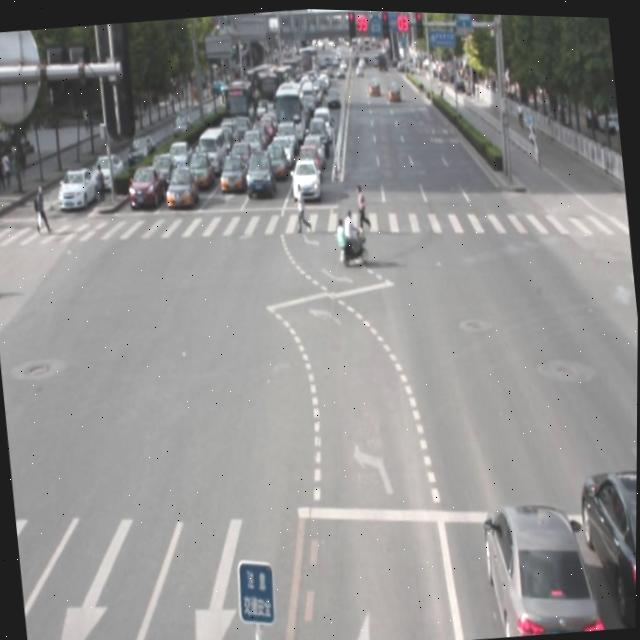car: (480, 492, 601, 637), (574, 462, 637, 628)
